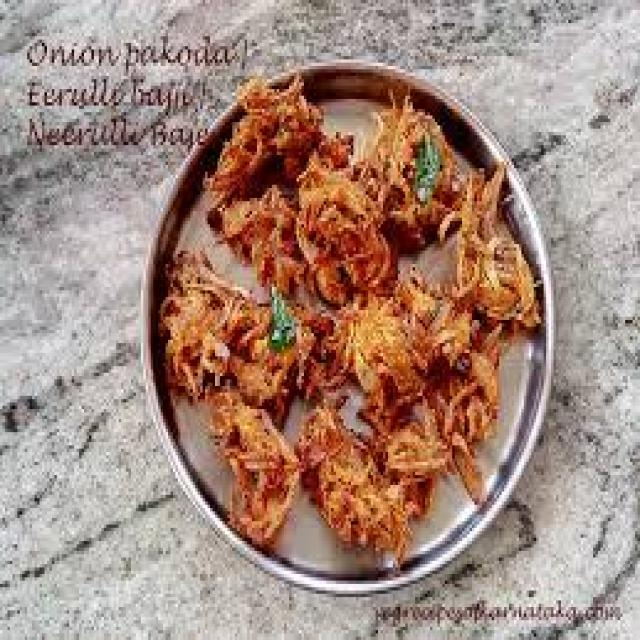BAJI: (158, 75, 546, 573)
